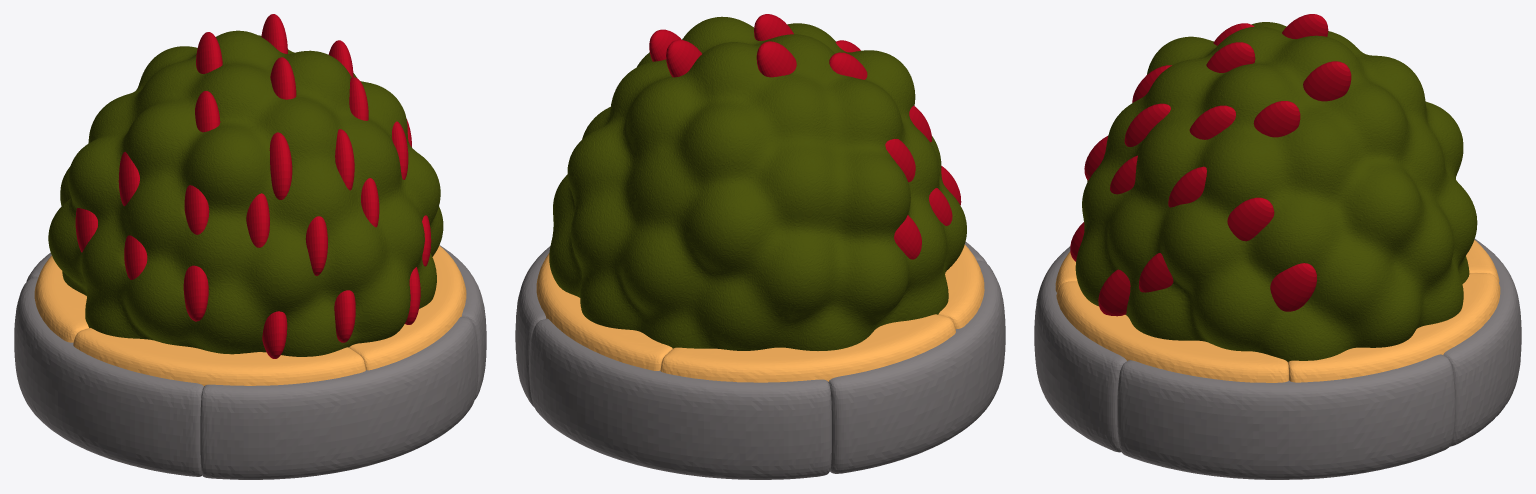
File: Grassland.glb
The picture shows the model from 3 angles, left to right: view 1: azimuth 30°, elevation 25°; view 2: azimuth 150°, elevation 25°; view 3: azimuth 270°, elevation 25°; orthographic projection. The views are drawn at different scales.
Parts seen in each view (by area): view 1: Mball047, Cylinder001, Cylinder, Sphere022, Sphere005, Sphere001, Sphere, Sphere021, Sphere006, Sphere002, Sphere004, Sphere014 (+10 smaller); view 2: Mball047, Cylinder001, Cylinder, Sphere014, Sphere019, Sphere020, Sphere008, Sphere007, Sphere016, Sphere013, Sphere015; view 3: Mball047, Cylinder001, Cylinder, Sphere018, Sphere019, Sphere012, Sphere013, Sphere017, Sphere009, Sphere008, Sphere004, Sphere010 (+4 smaller).
Boxes of the visible parts, left/top/right/bottom form: Mball047: left=48, top=30, right=443, bottom=356; Cylinder001: left=14, top=245, right=486, bottom=479; Cylinder: left=34, top=245, right=466, bottom=385; Sphere022: left=269, top=132, right=292, bottom=199; Sphere005: left=183, top=265, right=208, bottom=321; Sphere001: left=305, top=216, right=327, bottom=275; Sphere: left=246, top=193, right=269, bottom=247; Sphere021: left=262, top=311, right=287, bottom=358; Sphere006: left=184, top=185, right=209, bottom=234; Sphere002: left=334, top=290, right=355, bottom=342; Sphere004: left=335, top=129, right=354, bottom=190; Sphere014: left=196, top=32, right=222, bottom=73; Mball047: left=549, top=16, right=966, bottom=350; Cylinder001: left=515, top=241, right=1005, bottom=479; Cylinder: left=536, top=244, right=984, bottom=382; Sphere014: left=756, top=41, right=796, bottom=77; Sphere019: left=666, top=39, right=701, bottom=77; Sphere020: left=894, top=215, right=921, bottom=259; Sphere008: left=754, top=14, right=793, bottom=40; Sphere007: left=829, top=52, right=867, bottom=79; Sphere016: left=885, top=139, right=915, bottom=182; Sphere013: left=649, top=29, right=681, bottom=61; Sphere015: left=929, top=188, right=952, bottom=225; Mball047: left=1075, top=22, right=1477, bottom=361; Cylinder001: left=1034, top=239, right=1521, bottom=479; Cylinder: left=1055, top=240, right=1500, bottom=382; Sphere018: left=1270, top=263, right=1316, bottom=311; Sphere019: left=1303, top=61, right=1351, bottom=101; Sphere012: left=1227, top=197, right=1274, bottom=241; Sphere013: left=1253, top=101, right=1300, bottom=137; Sphere017: left=1098, top=269, right=1130, bottom=316; Sphere009: left=1189, top=105, right=1235, bottom=139; Sphere008: left=1206, top=42, right=1255, bottom=72; Sphere004: left=1124, top=103, right=1170, bottom=146; Sphere010: left=1168, top=166, right=1206, bottom=207.
Bounding box in the file's own units: 1 × 0.8694 × 0.9998.
